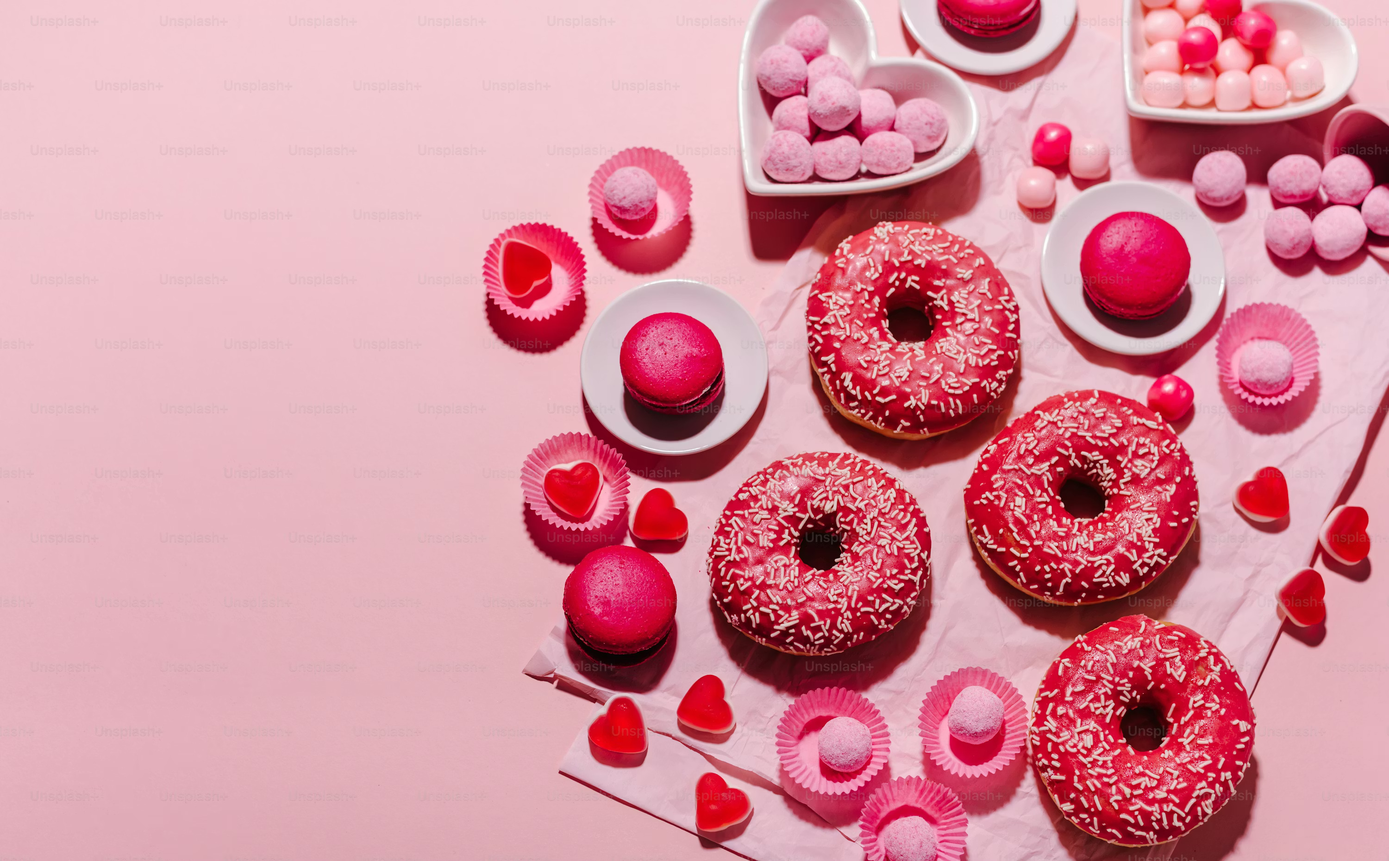Donut: (1009, 612, 1268, 861), (963, 368, 1204, 613), (796, 204, 1031, 449), (704, 446, 940, 683)
